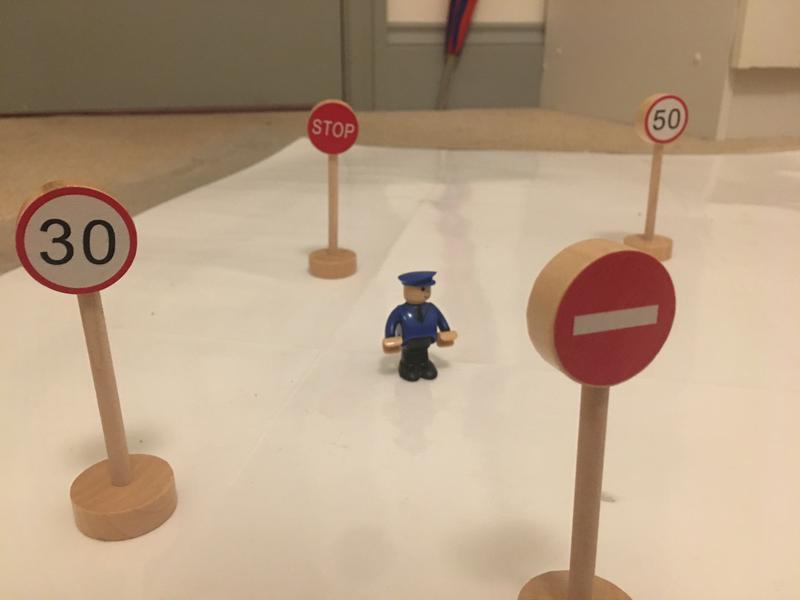Traffic_Sign_30: (18, 187, 138, 295)
Traffic_Sign_50: (646, 95, 688, 142)
Traffic_Sign_No_Entry: (553, 250, 674, 387)
Traffic_Sign_Stop: (309, 101, 358, 156)
person: (382, 270, 455, 387)
